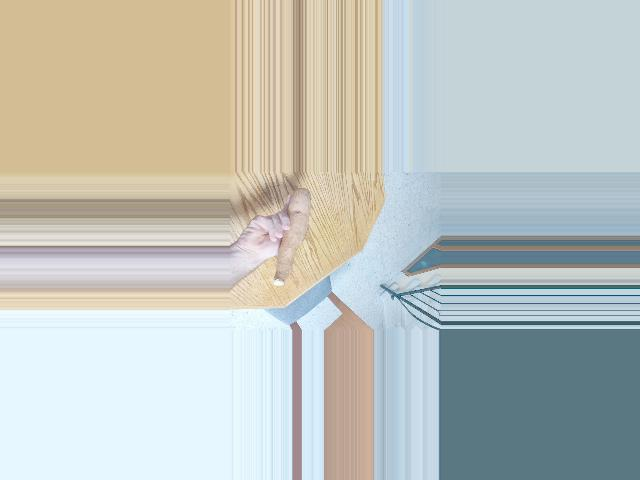sweet_potato: (269, 190, 315, 288)
